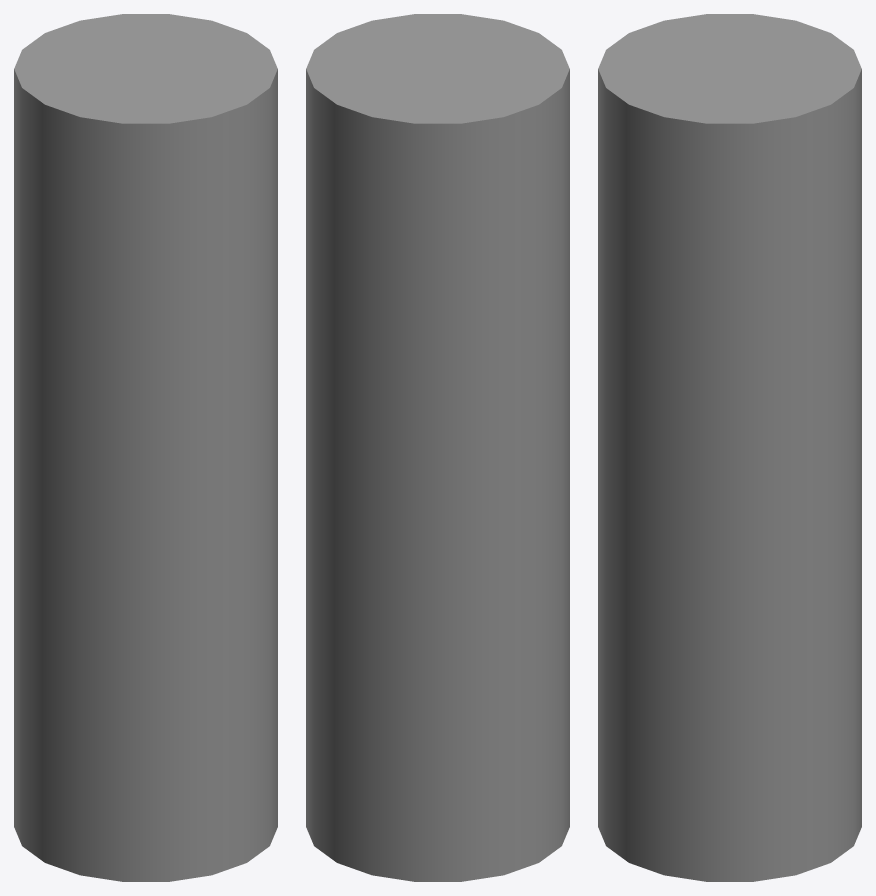
File: Azulejo.fbx
3 views of the same model, side by side, from view 1: azimuth 30°, elevation 25°; view 2: azimuth 150°, elevation 25°; view 3: azimuth 270°, elevation 25° (orthographic).
Parts seen in each view (by area): view 1: PilarS/Azulejo; view 2: PilarS/Azulejo; view 3: PilarS/Azulejo.
Boxes of the visible parts, box(x1,y1,x2,y2) form: PilarS/Azulejo: box(14, 14, 277, 881); PilarS/Azulejo: box(306, 14, 569, 881); PilarS/Azulejo: box(598, 14, 861, 881).
Size of the model in its own units: 194 by 626 by 197.
